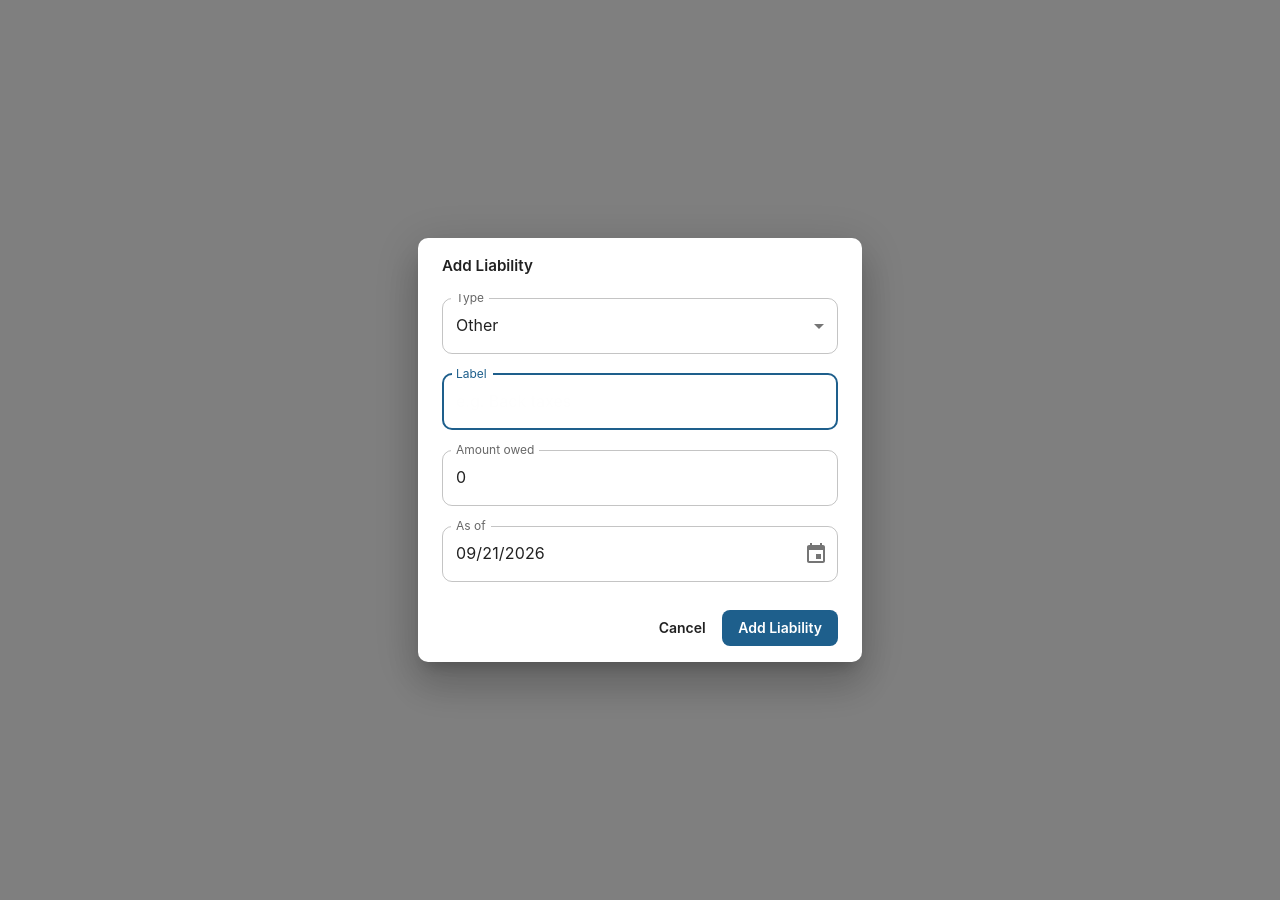
LiabilityFormDialog › requires a label
Replace the text in the number field labelled "Amount owed" with "1000" at (640, 478), box [442, 450, 838, 506]
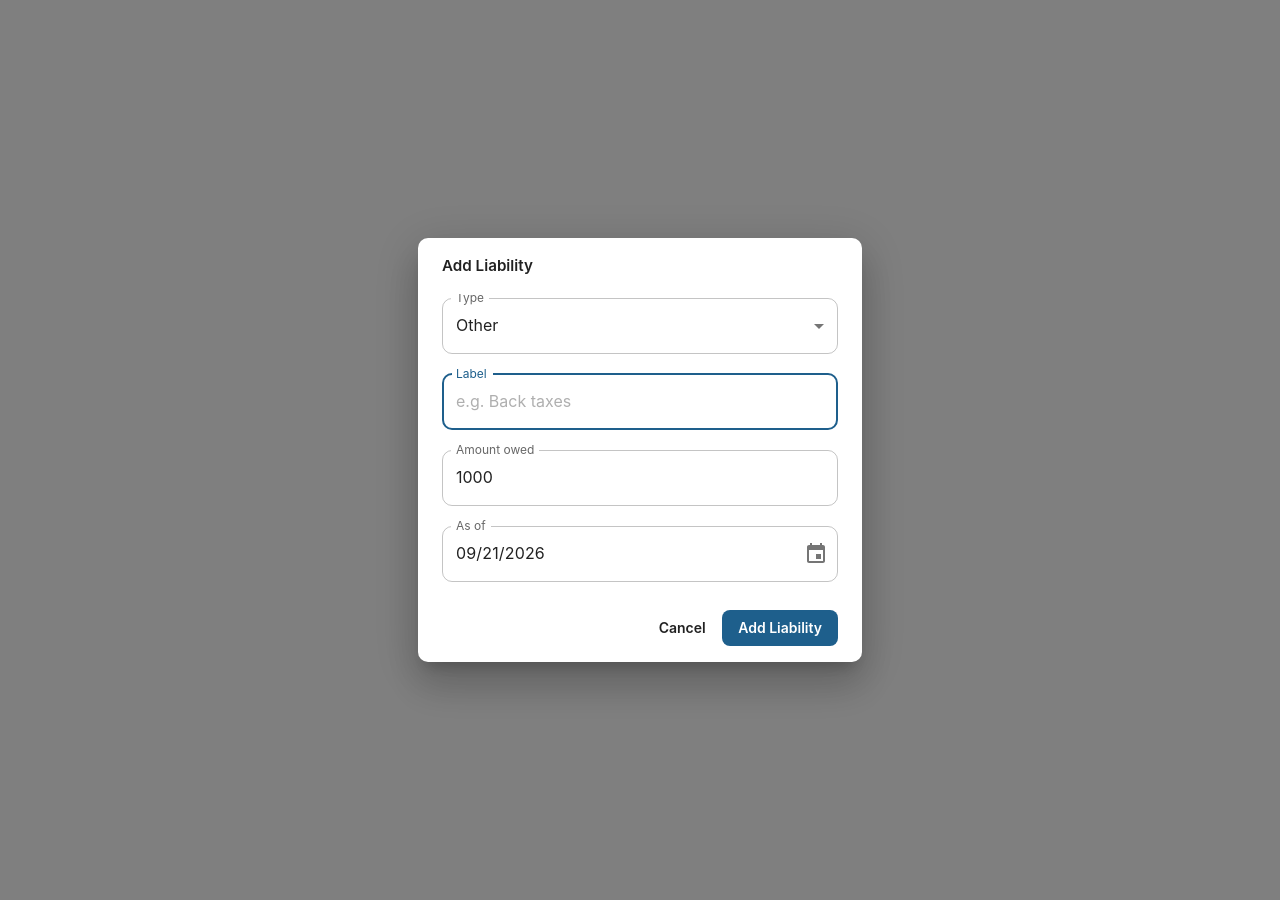
Click the button "Add Liability" at (780, 628), box [722, 610, 838, 646]
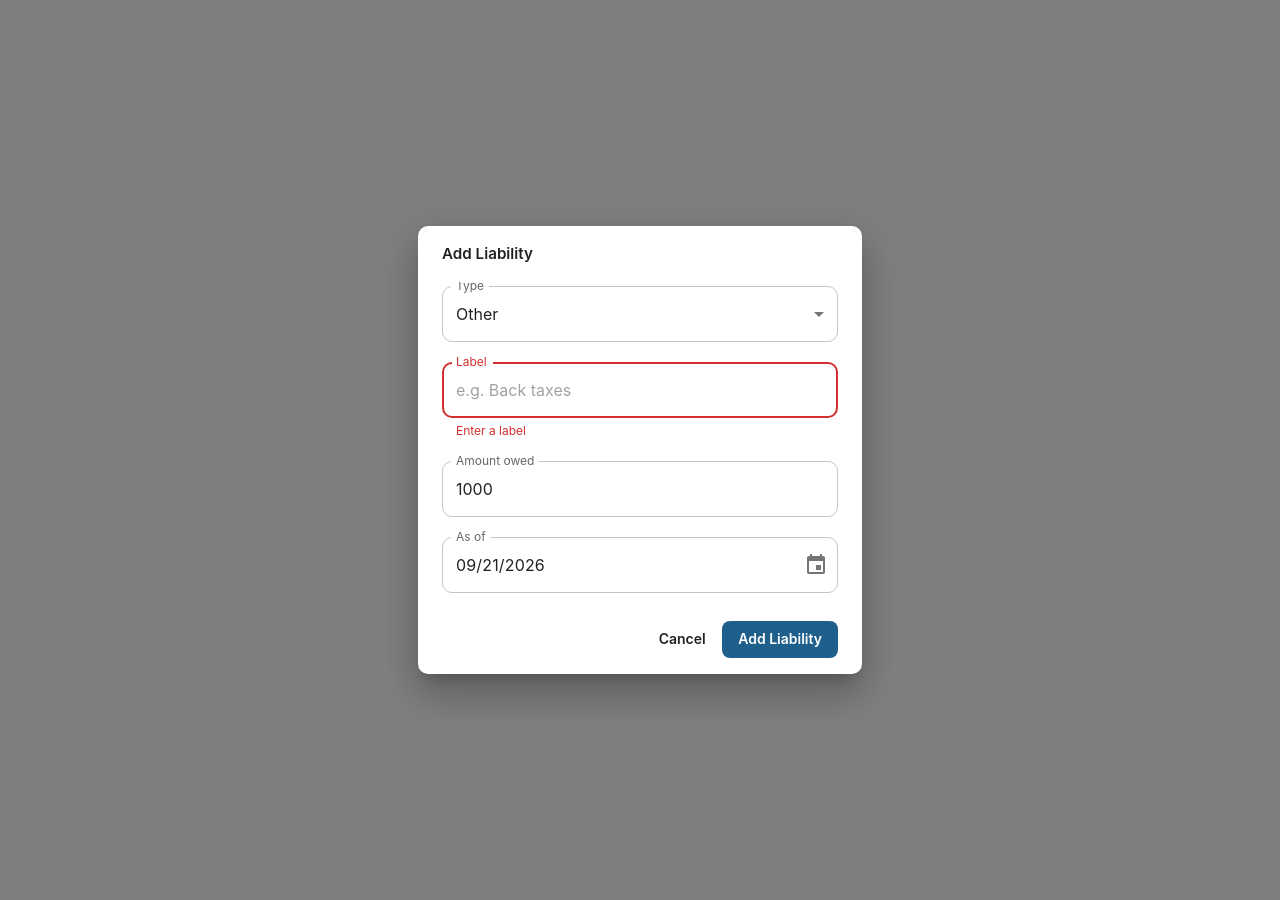
expect the text "Enter a label" is shown: met, box [456, 424, 526, 438]
